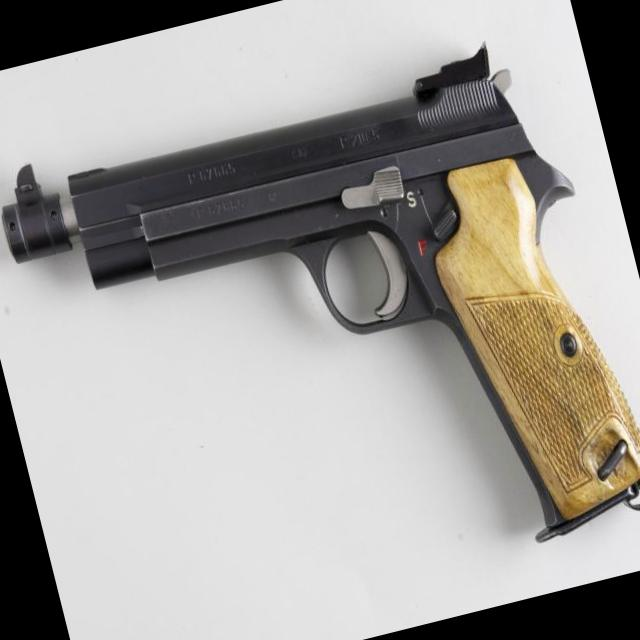Gun: (2, 48, 640, 541)
